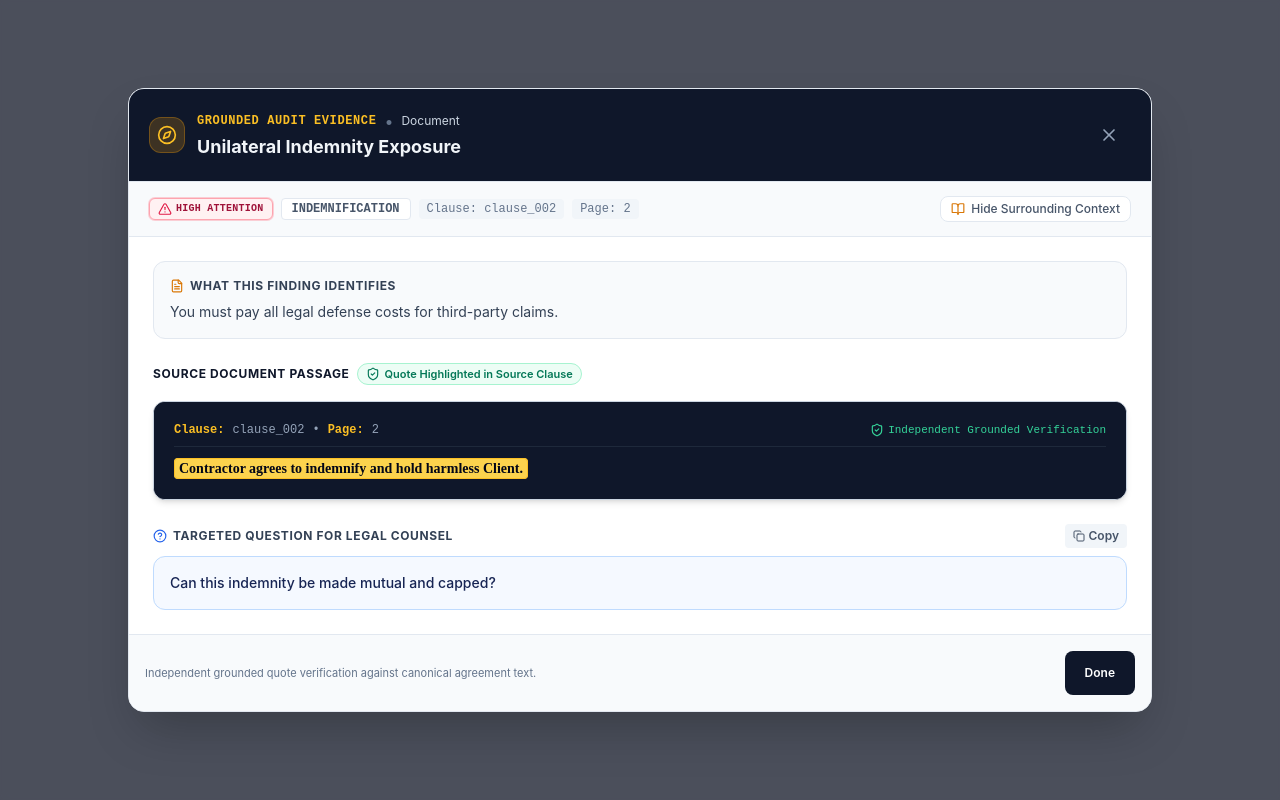
Scenario: EvidenceNavigator Component › Mode A: Single Audit Evidence › allows toggling surrounding context visibility
Check: the text "Hide Surrounding Context" is shown, box [971,201,1120,217]
Click the button "Hide Surrounding Context": {"x": 1036, "y": 209} [940,196,1131,222]
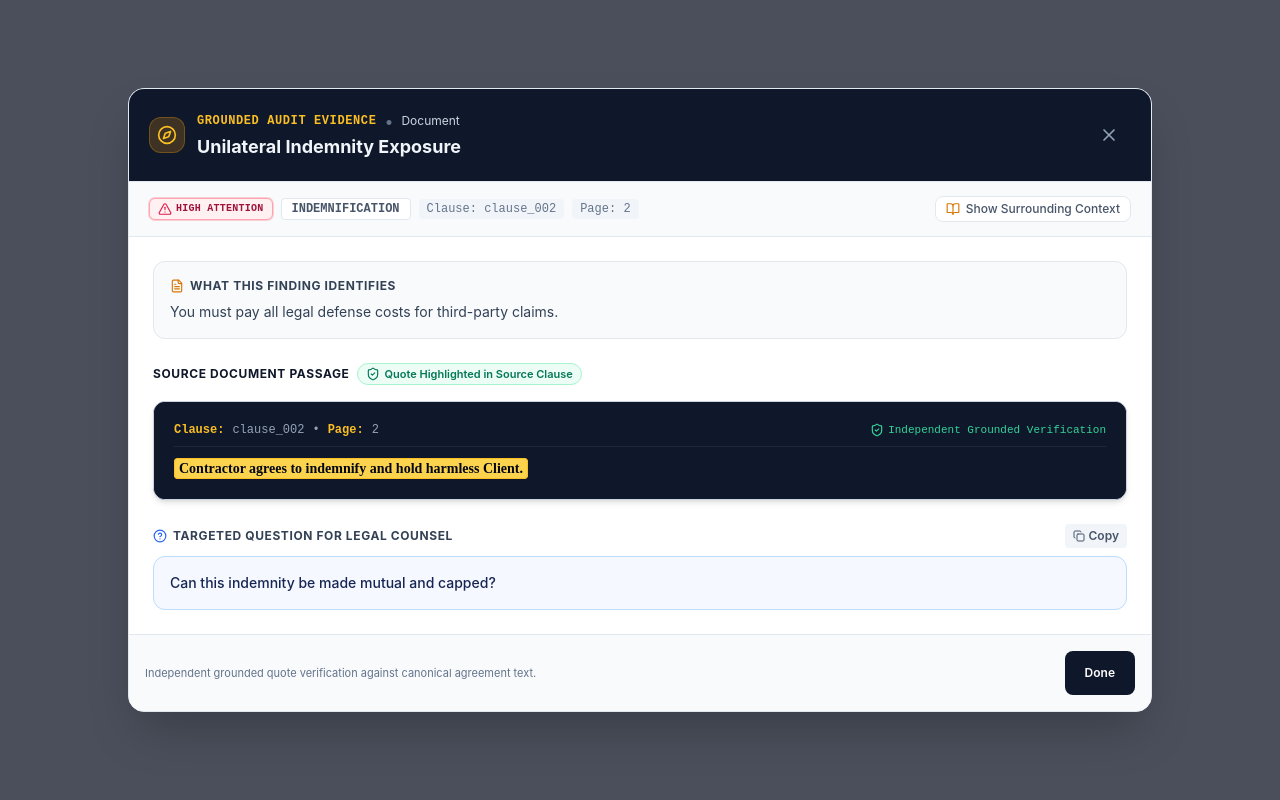
Check: the text "Show Surrounding Context" is shown, box [966,201,1120,217]
